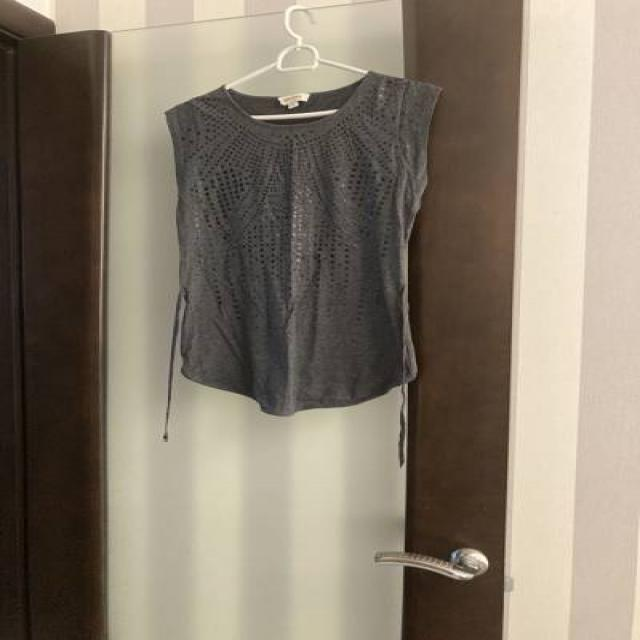Clothes -Biodegradable-: (166, 72, 441, 421)
